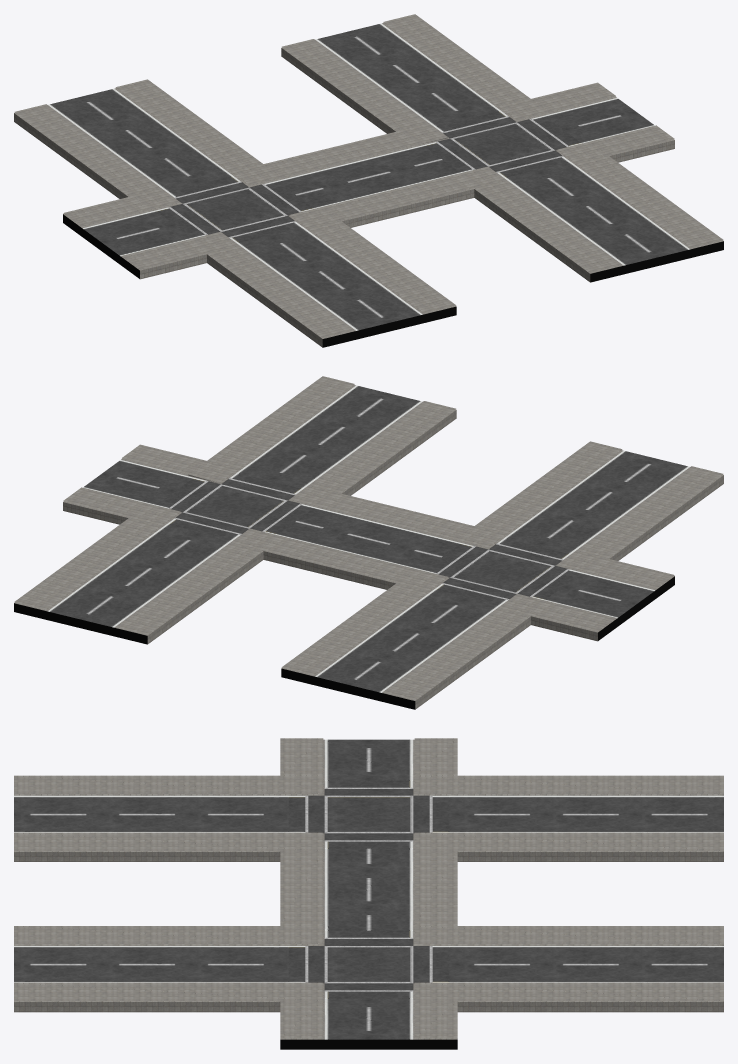
The model's file is doubleCross_3.fbx.
The picture shows the model from 3 angles, top to bottom: view 1: azimuth 30°, elevation 25°; view 2: azimuth 150°, elevation 25°; view 3: azimuth 270°, elevation 25°; orthographic projection. The views are drawn at different scales.
Parts seen in each view (by area): view 1: materialH150, materialA150, materialE150, materialC150, materialB150, materialD150; view 2: materialH150, materialA150, materialE150, materialC150, materialB150, materialD150; view 3: materialH150, materialA150, materialE150, materialC150, materialD150, materialB150.
Part boxes in pixels (<box>): materialH150: <box>14,14,723,347</box>; materialA150: <box>48,23,690,330</box>; materialE150: <box>155,111,581,243</box>; materialC150: <box>170,117,566,236</box>; materialB150: <box>63,214,723,347</box>; materialD150: <box>168,116,568,237</box>; materialH150: <box>14,376,723,709</box>; materialA150: <box>47,385,689,692</box>; materialE150: <box>156,473,582,605</box>; materialC150: <box>171,479,567,598</box>; materialB150: <box>14,576,674,709</box>; materialD150: <box>169,478,569,599</box>; materialH150: <box>14,738,723,1039</box>; materialA150: <box>14,739,723,1039</box>; materialE150: <box>288,780,449,998</box>; materialC150: <box>308,789,429,990</box>; materialD150: <box>305,787,432,991</box>; materialB150: <box>280,1039,457,1049</box>.
Size of the model in its own units: 102 by 1.8 by 102.
